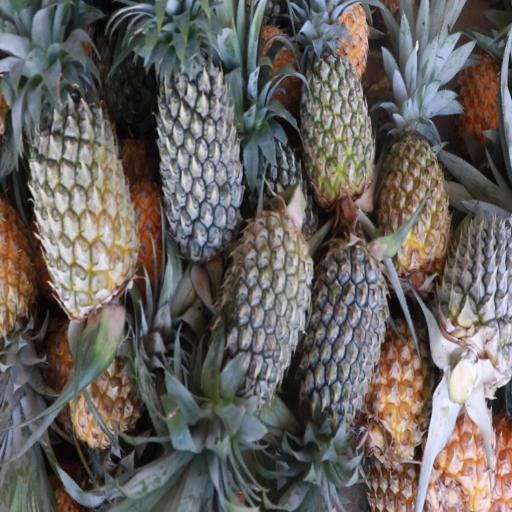------------------------------: (26, 81, 136, 312), (297, 18, 372, 206)
Pineapple - v8 v1: (378, 61, 450, 275), (66, 318, 165, 445), (370, 310, 445, 462), (427, 394, 503, 512)
